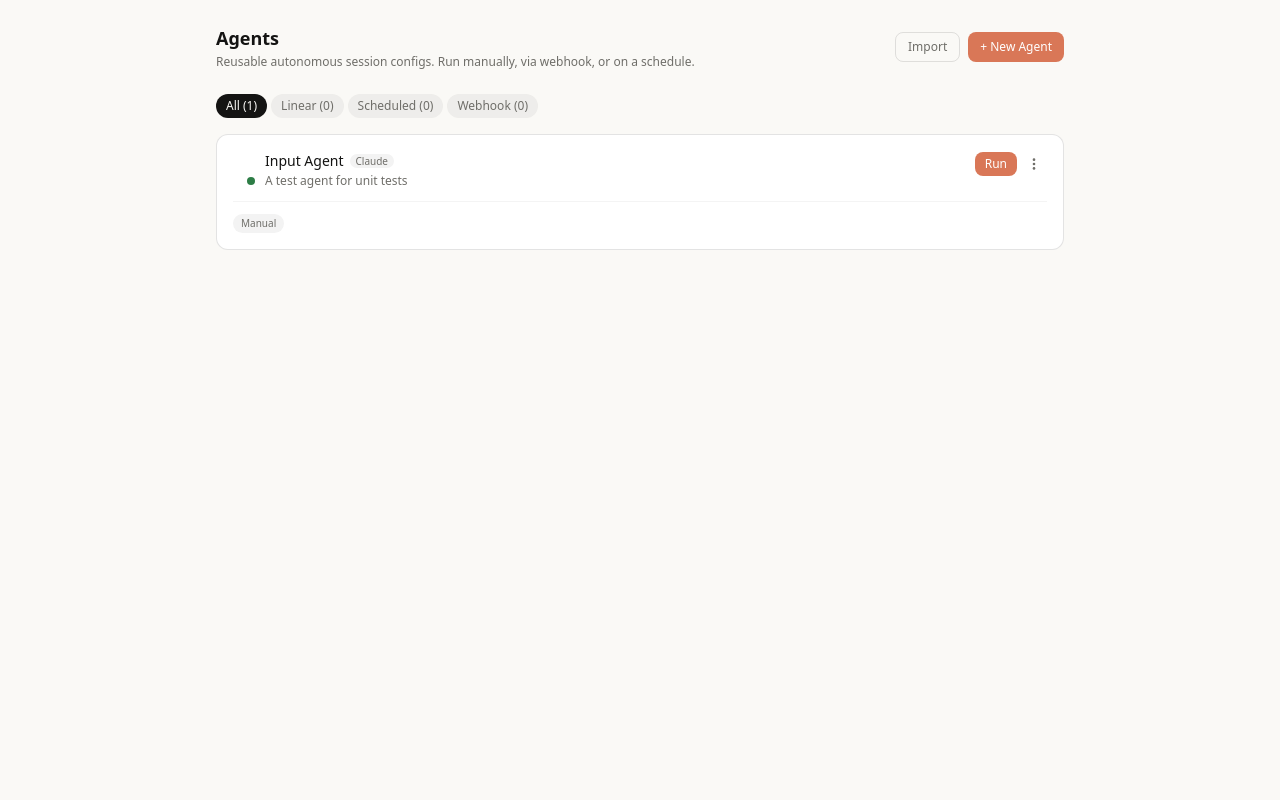
Test: AgentsPage › clicking Run on an agent with {{input}} shows input modal
Expected: the heading "Input Agent" is shown, [265,151,344,171]
Click the button "Run": point(996, 164) [975,152,1017,176]
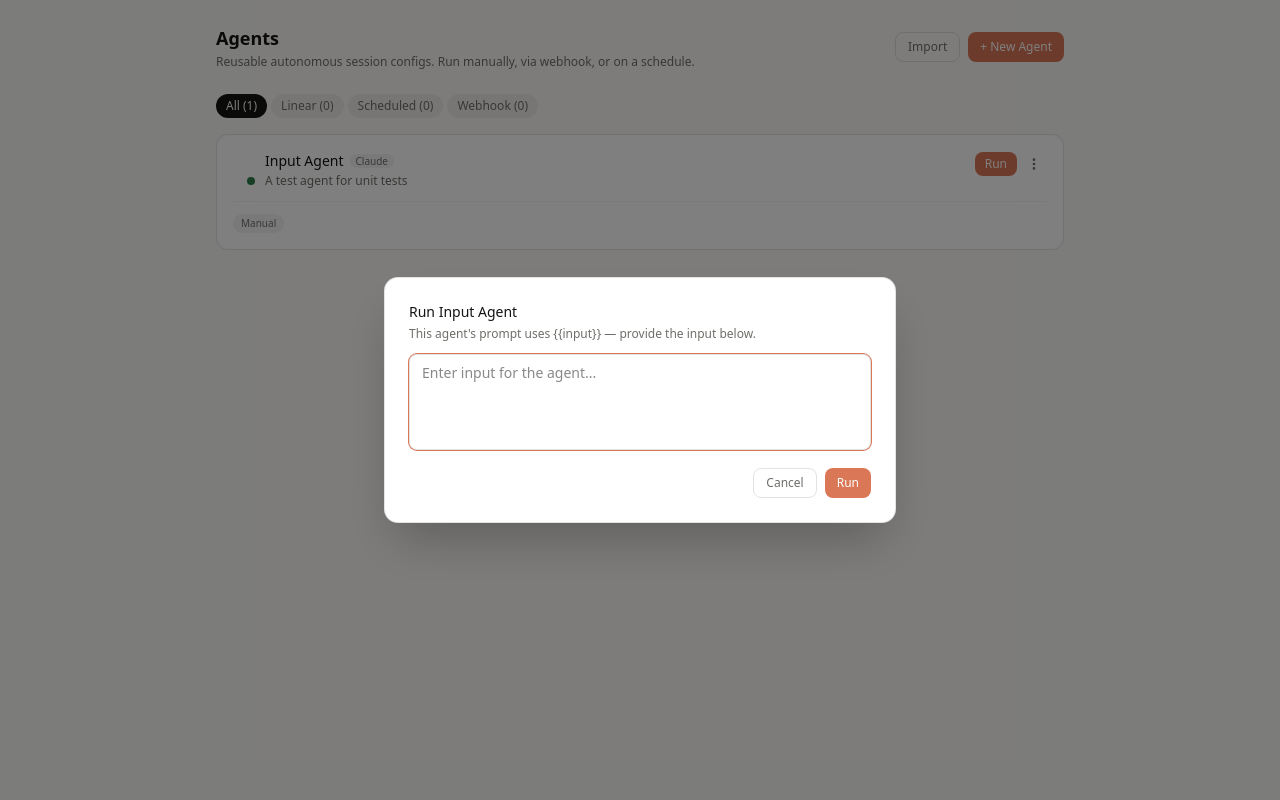
Now the heading "Run Input Agent" is shown, box [409,302,517,321]
Now the text box with placeholder "Enter input for the agent..." is shown, box [409,354,871,450]
